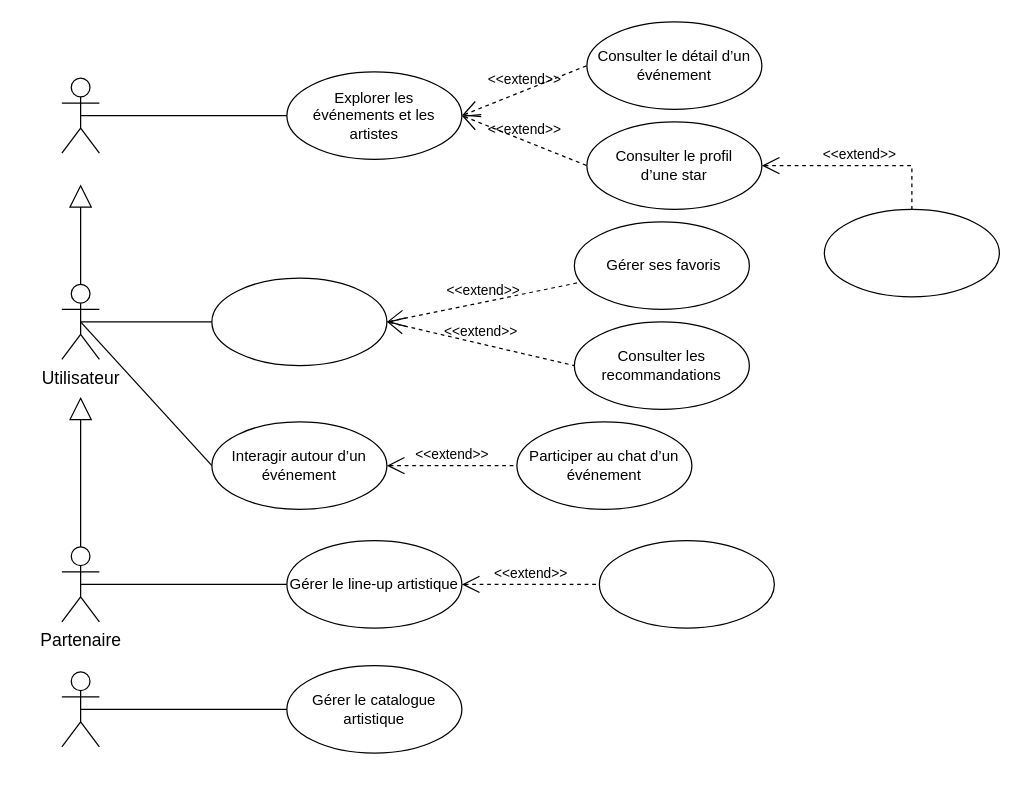
Some shapes in this 1021 by 799 pixel diagram are drawn without their labels. Here are the shapes that lost their labels. From the top down, the box of each, then its label:
(61, 77, 99, 153): Visiteur
(823, 208, 999, 297): Suivre une star
(211, 277, 387, 366): Personnaliser son expérience
(598, 539, 774, 628): Proposer une nouvelle star
(61, 671, 99, 747): Administrateur
